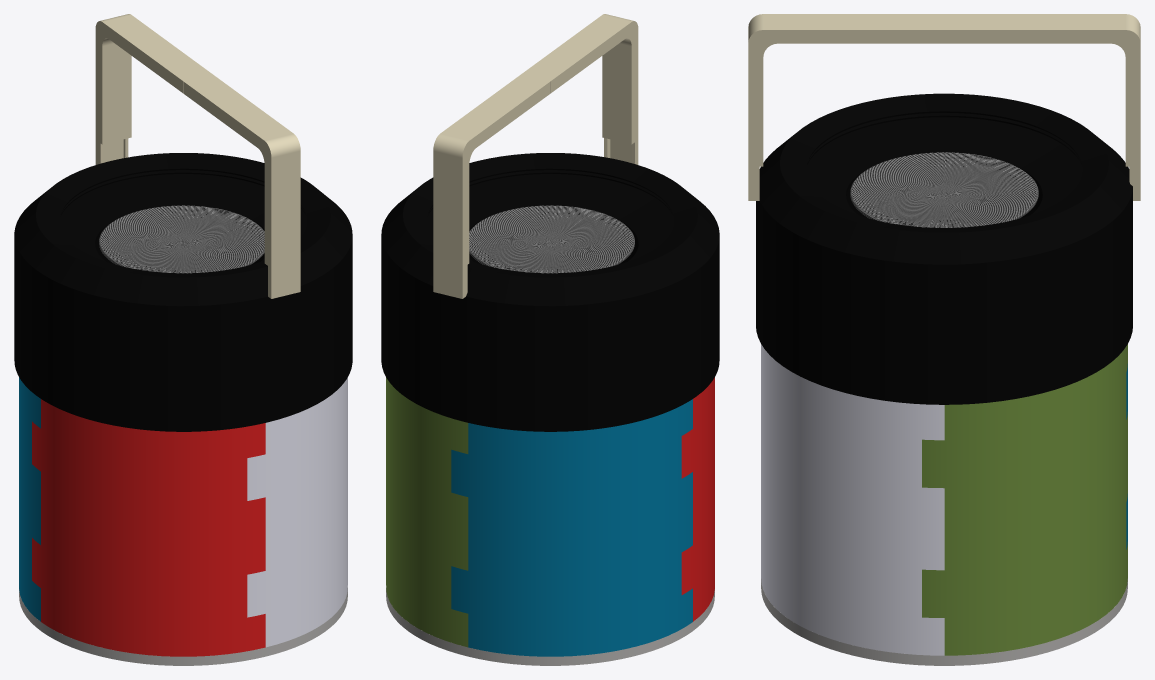
File: Ensamblaje1.glb
3 renders of one model, left to right at view 1: azimuth 30°, elevation 25°; view 2: azimuth 150°, elevation 25°; view 3: azimuth 270°, elevation 25°, orthographic. The views are drawn at different scales.
Visible parts, largest first — view 1: Sólido1 (×18); view 2: Sólido1 (×18); view 3: Sólido1 (×16).
Part boxes in pixels (left/top/right/bottom): Sólido1 (×18): left=14, top=14, right=352, bottom=665; Sólido1 (×18): left=381, top=14, right=719, bottom=665; Sólido1 (×16): left=748, top=14, right=1140, bottom=665.
Bounding box in the file's own units: 0.5 × 0.84 × 0.52.
Materials: 22 (2 with a texture image).
